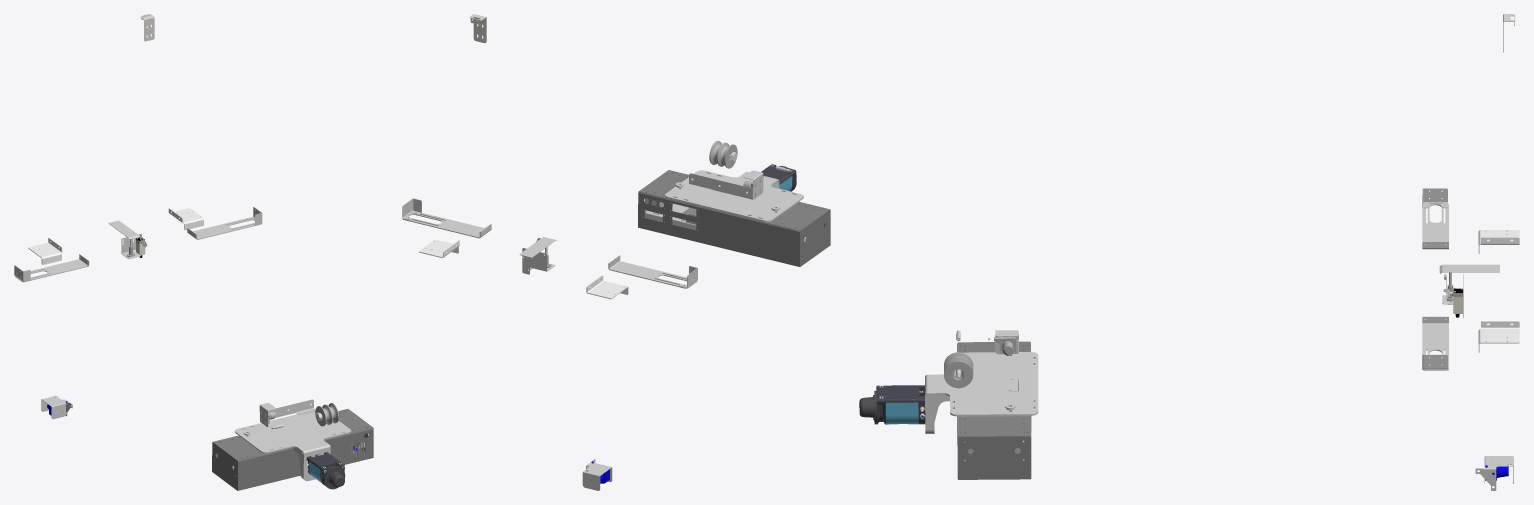
The model's file is agv-0200500000000_堆垛车.glb.
3 renders of one model, left to right at view 1: azimuth 30°, elevation 25°; view 2: azimuth 150°, elevation 25°; view 3: azimuth 270°, elevation 25°, orthographic. The views are drawn at different scales.
Parts seen in each view (by area): view 1: AGV-1100100020101 面板-2, AGV-1200522010100 CBS固定板-1, AGV-1100100030000 安装板-1, AGV-NAV350_Dummy-1, AGV-1100100020200 侧板-3, AGV-1200522080000 拉线编码器支架-2, AGV-1200522020000 DX35安装板-2, AGV-1200522020000 DX35安装板-1, AGV-1200522050000 WT34安装支架左-1, AGV-1200522070000 TIM310 防撞仪支架-1, AGV-1200522140000 WT34安装支架右-1, AGV-1300222020000 拖链随动轮-1; view 2: AGV-1100100020101 面板-2, AGV-1200522010100 CBS固定板-1, AGV-1100100030000 安装板-1, AGV-1100100020200 侧板-3, AGV-1200522080000 拉线编码器支架-2, AGV-1200522020000 DX35安装板-2, AGV-1200522020000 DX35安装板-1, AGV-1200522050000 WT34安装支架左-1, AGV-1200522070000 TIM310 防撞仪支架-1, AGV-1300222020000 拖链随动轮-1, AGV-NAV350_Dummy-1, AGV-1200522140000 WT34安装支架右-1 (+1 smaller); view 3: AGV-1200522010100 CBS固定板-1, AGV-1100100020200 侧板-4, AGV-NAV350_Dummy-1, AGV-1100100030000 安装板-1, AGV-1200522020000 DX35安装板-1, AGV-1200522020000 DX35安装板-2, AGV-1200522140000 WT34安装支架右-1, AGV-1300222020000 拖链随动轮-1.
Boxes of the visible parts, x1=… form: AGV-1100100020101 面板-2: x1=212, y1=410, x2=373, y2=490; AGV-1200522010100 CBS固定板-1: x1=234, y1=410, x2=351, y2=481; AGV-1100100030000 安装板-1: x1=212, y1=409, x2=373, y2=460; AGV-NAV350_Dummy-1: x1=306, y1=452, x2=345, y2=489; AGV-1100100020200 侧板-3: x1=212, y1=443, x2=237, y2=490; AGV-1200522080000 拉线编码器支架-2: x1=259, y1=399, x2=315, y2=426; AGV-1200522020000 DX35安装板-2: x1=14, y1=254, x2=89, y2=282; AGV-1200522020000 DX35安装板-1: x1=187, y1=218, x2=261, y2=239; AGV-1200522050000 WT34安装支架左-1: x1=28, y1=238, x2=62, y2=264; AGV-1200522070000 TIM310 防撞仪支架-1: x1=41, y1=396, x2=72, y2=419; AGV-1200522140000 WT34安装支架右-1: x1=168, y1=208, x2=203, y2=230; AGV-1300222020000 拖链随动轮-1: x1=315, y1=403, x2=338, y2=426; AGV-1100100020101 面板-2: x1=638, y1=175, x2=830, y2=266; AGV-1200522010100 CBS固定板-1: x1=665, y1=170, x2=803, y2=221; AGV-1100100030000 安装板-1: x1=638, y1=170, x2=830, y2=231; AGV-1100100020200 侧板-3: x1=800, y1=210, x2=830, y2=266; AGV-1200522080000 拉线编码器支架-2: x1=689, y1=170, x2=763, y2=199; AGV-1200522020000 DX35安装板-2: x1=608, y1=255, x2=697, y2=288; AGV-1200522020000 DX35安装板-1: x1=402, y1=212, x2=491, y2=238; AGV-1200522050000 WT34安装支架左-1: x1=586, y1=275, x2=628, y2=299; AGV-1200522070000 TIM310 防撞仪支架-1: x1=582, y1=459, x2=612, y2=490; AGV-1300222020000 拖链随动轮-1: x1=709, y1=140, x2=737, y2=168; AGV-NAV350_Dummy-1: x1=761, y1=164, x2=796, y2=191; AGV-1200522140000 WT34安装支架右-1: x1=419, y1=239, x2=459, y2=257; AGV-1200522010100 CBS固定板-1: x1=925, y1=352, x2=1038, y2=433; AGV-1100100020200 侧板-4: x1=958, y1=436, x2=1030, y2=479; AGV-NAV350_Dummy-1: x1=859, y1=385, x2=925, y2=424; AGV-1100100030000 安装板-1: x1=958, y1=341, x2=1030, y2=437; AGV-1200522020000 DX35安装板-1: x1=1422, y1=316, x2=1448, y2=370; AGV-1200522020000 DX35安装板-2: x1=1422, y1=203, x2=1448, y2=249; AGV-1200522140000 WT34安装支架右-1: x1=1478, y1=321, x2=1519, y2=352; AGV-1300222020000 拖链随动轮-1: x1=944, y1=352, x2=973, y2=388.
Bounding box in the file's own units: 1.34 × 2 × 2.24.
